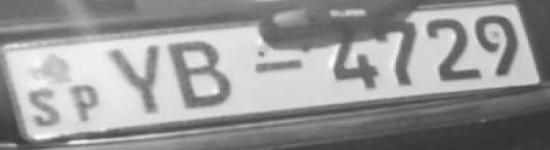-: (250, 56, 308, 76)
2: (422, 16, 481, 82), (476, 12, 521, 80)
4: (327, 26, 379, 92)
7: (375, 19, 421, 88)
B: (167, 38, 241, 114)
P: (66, 82, 106, 127)
S: (26, 84, 62, 129)
Y: (104, 44, 166, 119)
